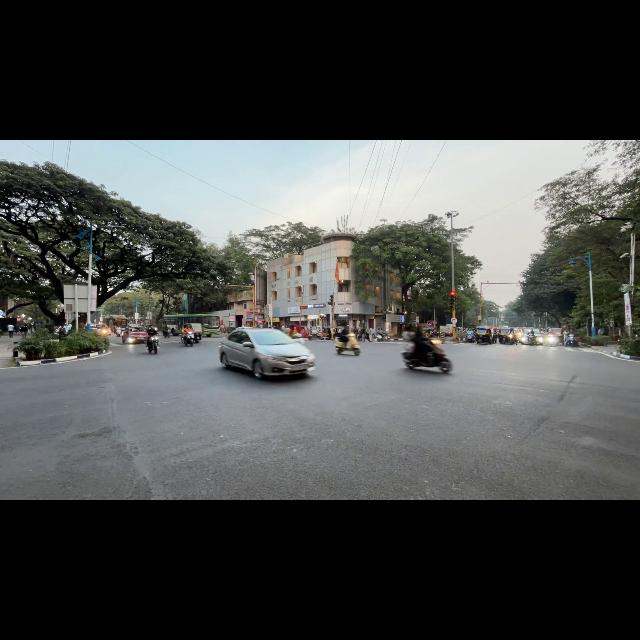bus: (163, 314, 220, 336), (103, 315, 128, 332)
car: (219, 328, 314, 378), (122, 326, 146, 343), (520, 328, 543, 344), (96, 325, 111, 336)
motorcycle: (403, 344, 452, 373), (335, 333, 360, 355), (147, 336, 159, 354), (565, 334, 579, 348), (182, 332, 194, 346), (292, 333, 304, 344), (504, 334, 517, 344), (544, 335, 557, 345), (527, 334, 537, 345), (376, 331, 388, 340), (466, 333, 475, 343), (115, 328, 122, 336), (163, 331, 170, 338)
